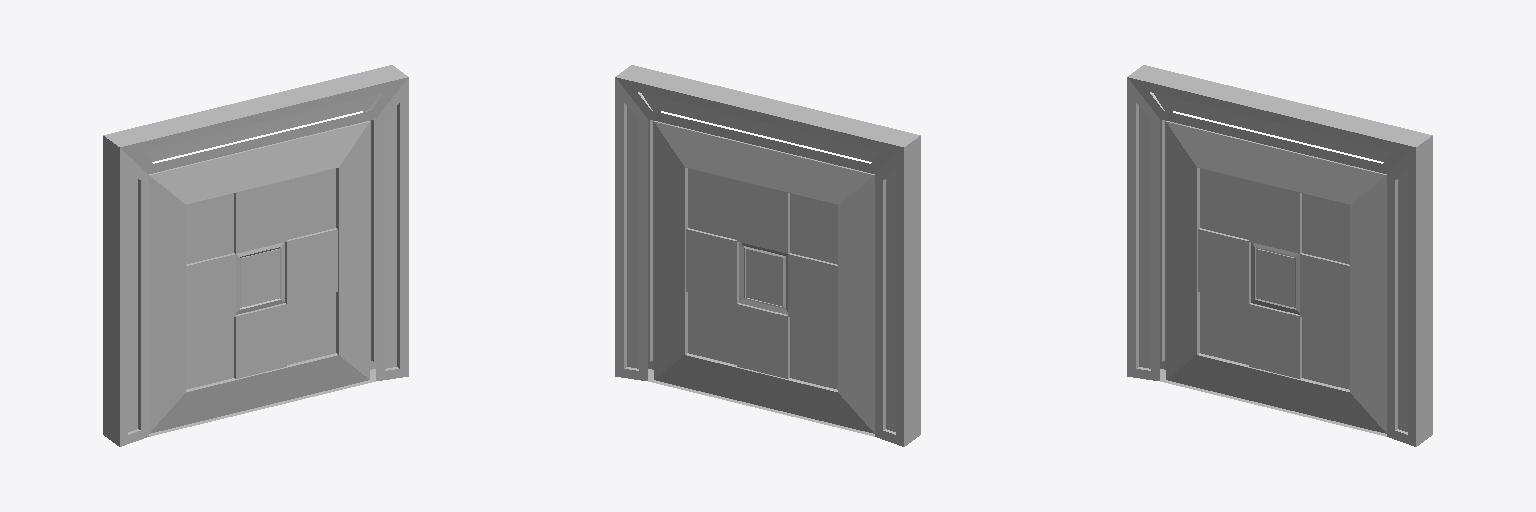
Rendered from Start door.obj.
The picture shows the model from 3 angles: view 1: azimuth 30°, elevation 25°; view 2: azimuth 150°, elevation 25°; view 3: azimuth 330°, elevation 25°; orthographic projection.
Parts seen in each view (by area): view 1: Start_Door, Start_Door.001; view 2: Start_Door, Start_Door.001; view 3: Start_Door, Start_Door.001.
Boxes of the visible parts, box(x1,y1,x2,y2) form: Start_Door: box(149, 121, 369, 433); Start_Door.001: box(103, 65, 408, 446); Start_Door: box(654, 121, 874, 433); Start_Door.001: box(615, 65, 920, 446); Start_Door: box(1166, 121, 1386, 433); Start_Door.001: box(1127, 65, 1432, 446).
Bounding box in the file's own units: 5.29 × 5.24 × 0.5279.